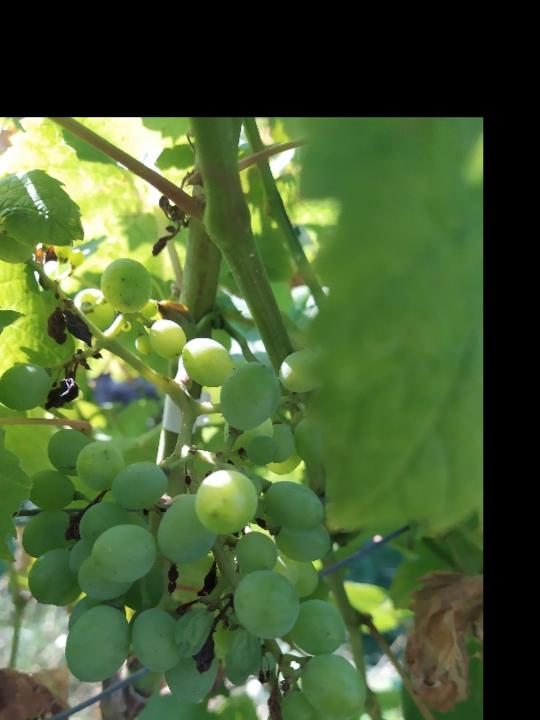grape: (0, 221, 370, 720)
